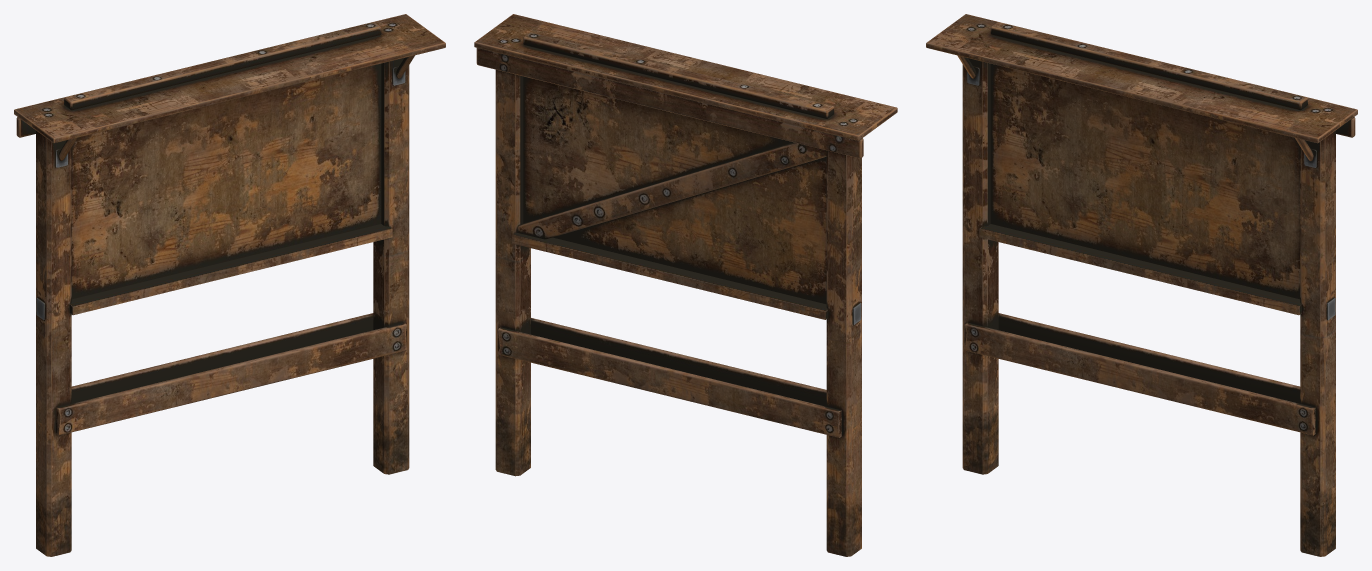
File: notice_board.gltf
3 renders of one model, left to right at view 1: azimuth 30°, elevation 25°; view 2: azimuth 150°, elevation 25°; view 3: azimuth 330°, elevation 25°, orthographic.
Parts seen in each view (by area): view 1: Symmetry_5; view 2: Symmetry_5; view 3: Symmetry_5.
Part boxes in pixels (x1,y1,x2,y2): Symmetry_5: [14, 14, 445, 556]; Symmetry_5: [474, 14, 897, 556]; Symmetry_5: [926, 14, 1357, 556].
Size of the model in its own units: 2.35 by 2.55 by 0.4145.
1 material, 1 textured.
